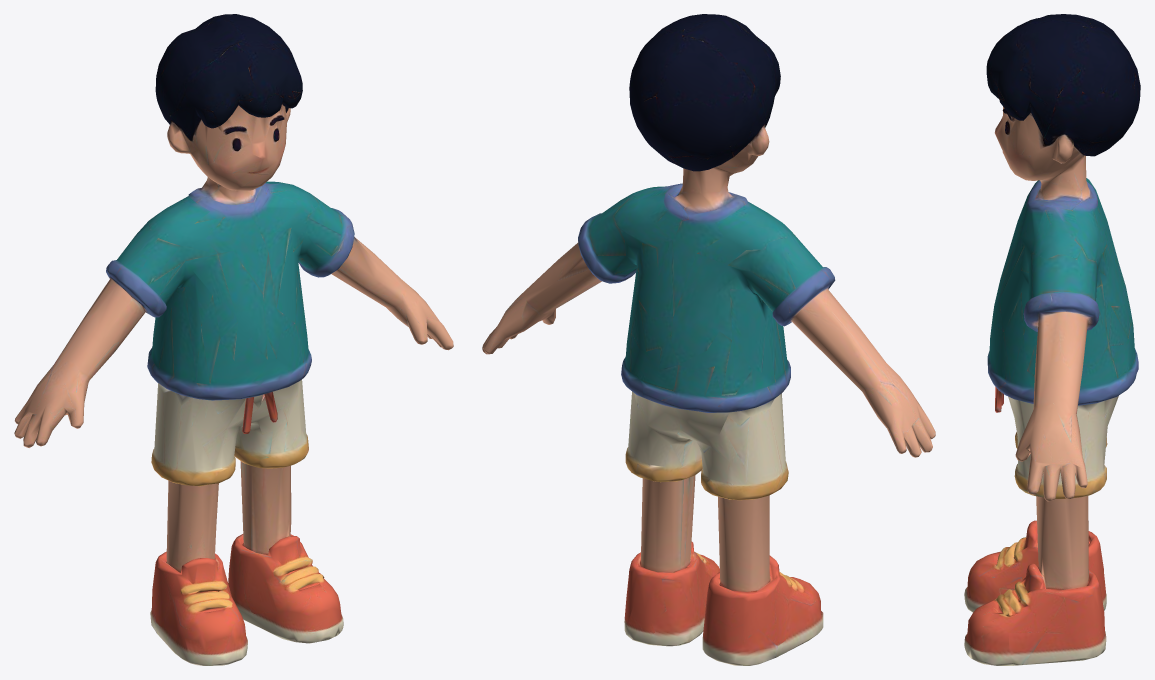
File: kid-boy-512.glb
The picture shows the model from 3 angles, left to right: view 1: azimuth 30°, elevation 25°; view 2: azimuth 150°, elevation 25°; view 3: azimuth 270°, elevation 25°; orthographic projection. The views are drawn at different scales.
Bounding box in the file's own units: 1.42 × 1.9 × 0.4993.
Materials: 1 (1 with a texture image).
